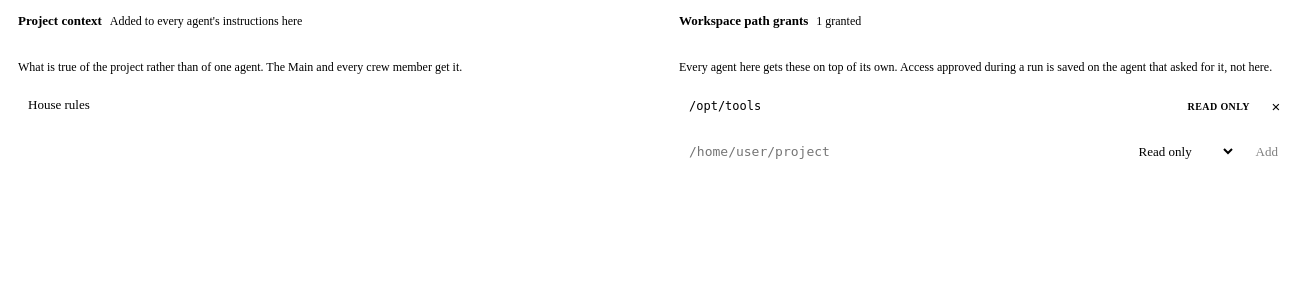
TeamPolicySection › reports a failed save and keeps the draft dirty
In the text box labelled "Project context": (324, 158) [18, 88, 631, 228], type " too"
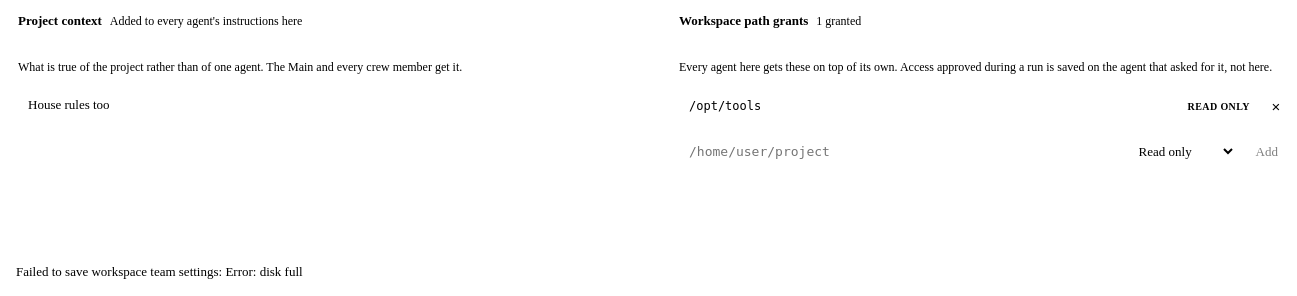
Expected: the message shows "disk full", [16, 264, 303, 279]
